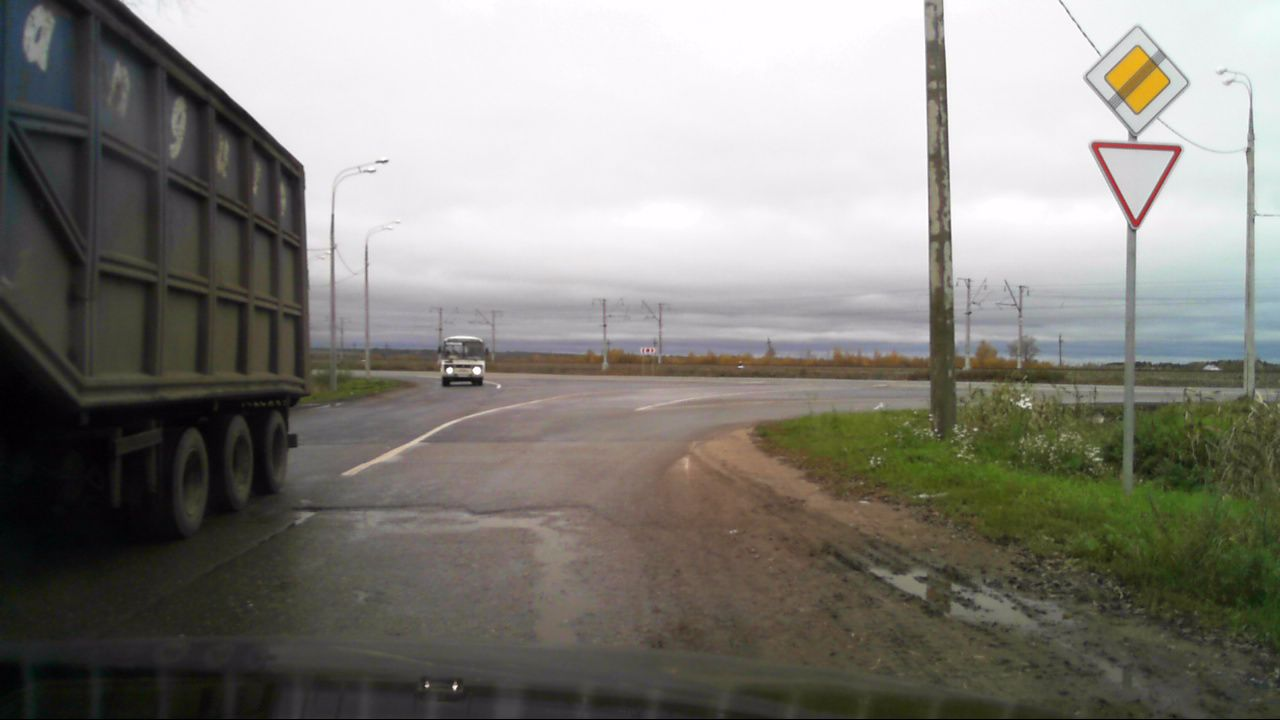main road: (1082, 24, 1191, 138)
